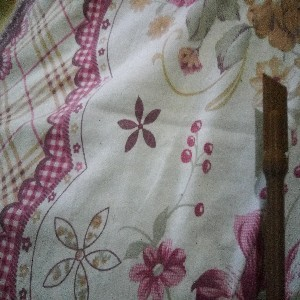cutter: (260, 71, 289, 300)
